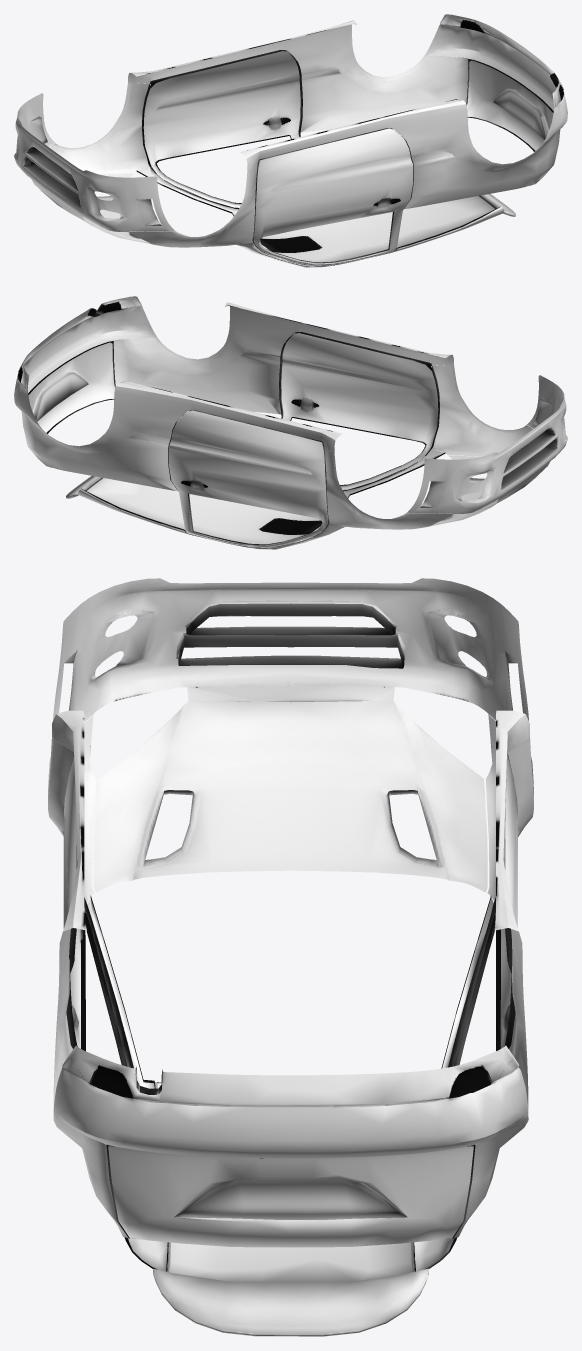
File: FN_body_d3.obj
3 views of the same model, one above another, from view 1: azimuth 30°, elevation 25°; view 2: azimuth 150°, elevation 25°; view 3: azimuth 270°, elevation 25° (orthographic). The views are drawn at different scales.
Visible parts, largest first — view 1: FN_body_FN_body_DefaultMaterial; view 2: FN_body_FN_body_DefaultMaterial; view 3: FN_body_FN_body_DefaultMaterial.
Boxes of the visible parts, bbox=[...] form: FN_body_FN_body_DefaultMaterial: bbox=[14, 14, 567, 267]; FN_body_FN_body_DefaultMaterial: bbox=[14, 296, 567, 549]; FN_body_FN_body_DefaultMaterial: bbox=[48, 578, 533, 1336].
Bounding box in the file's own units: 4.06 × 1.3 × 1.76.
1 material, 1 textured.
